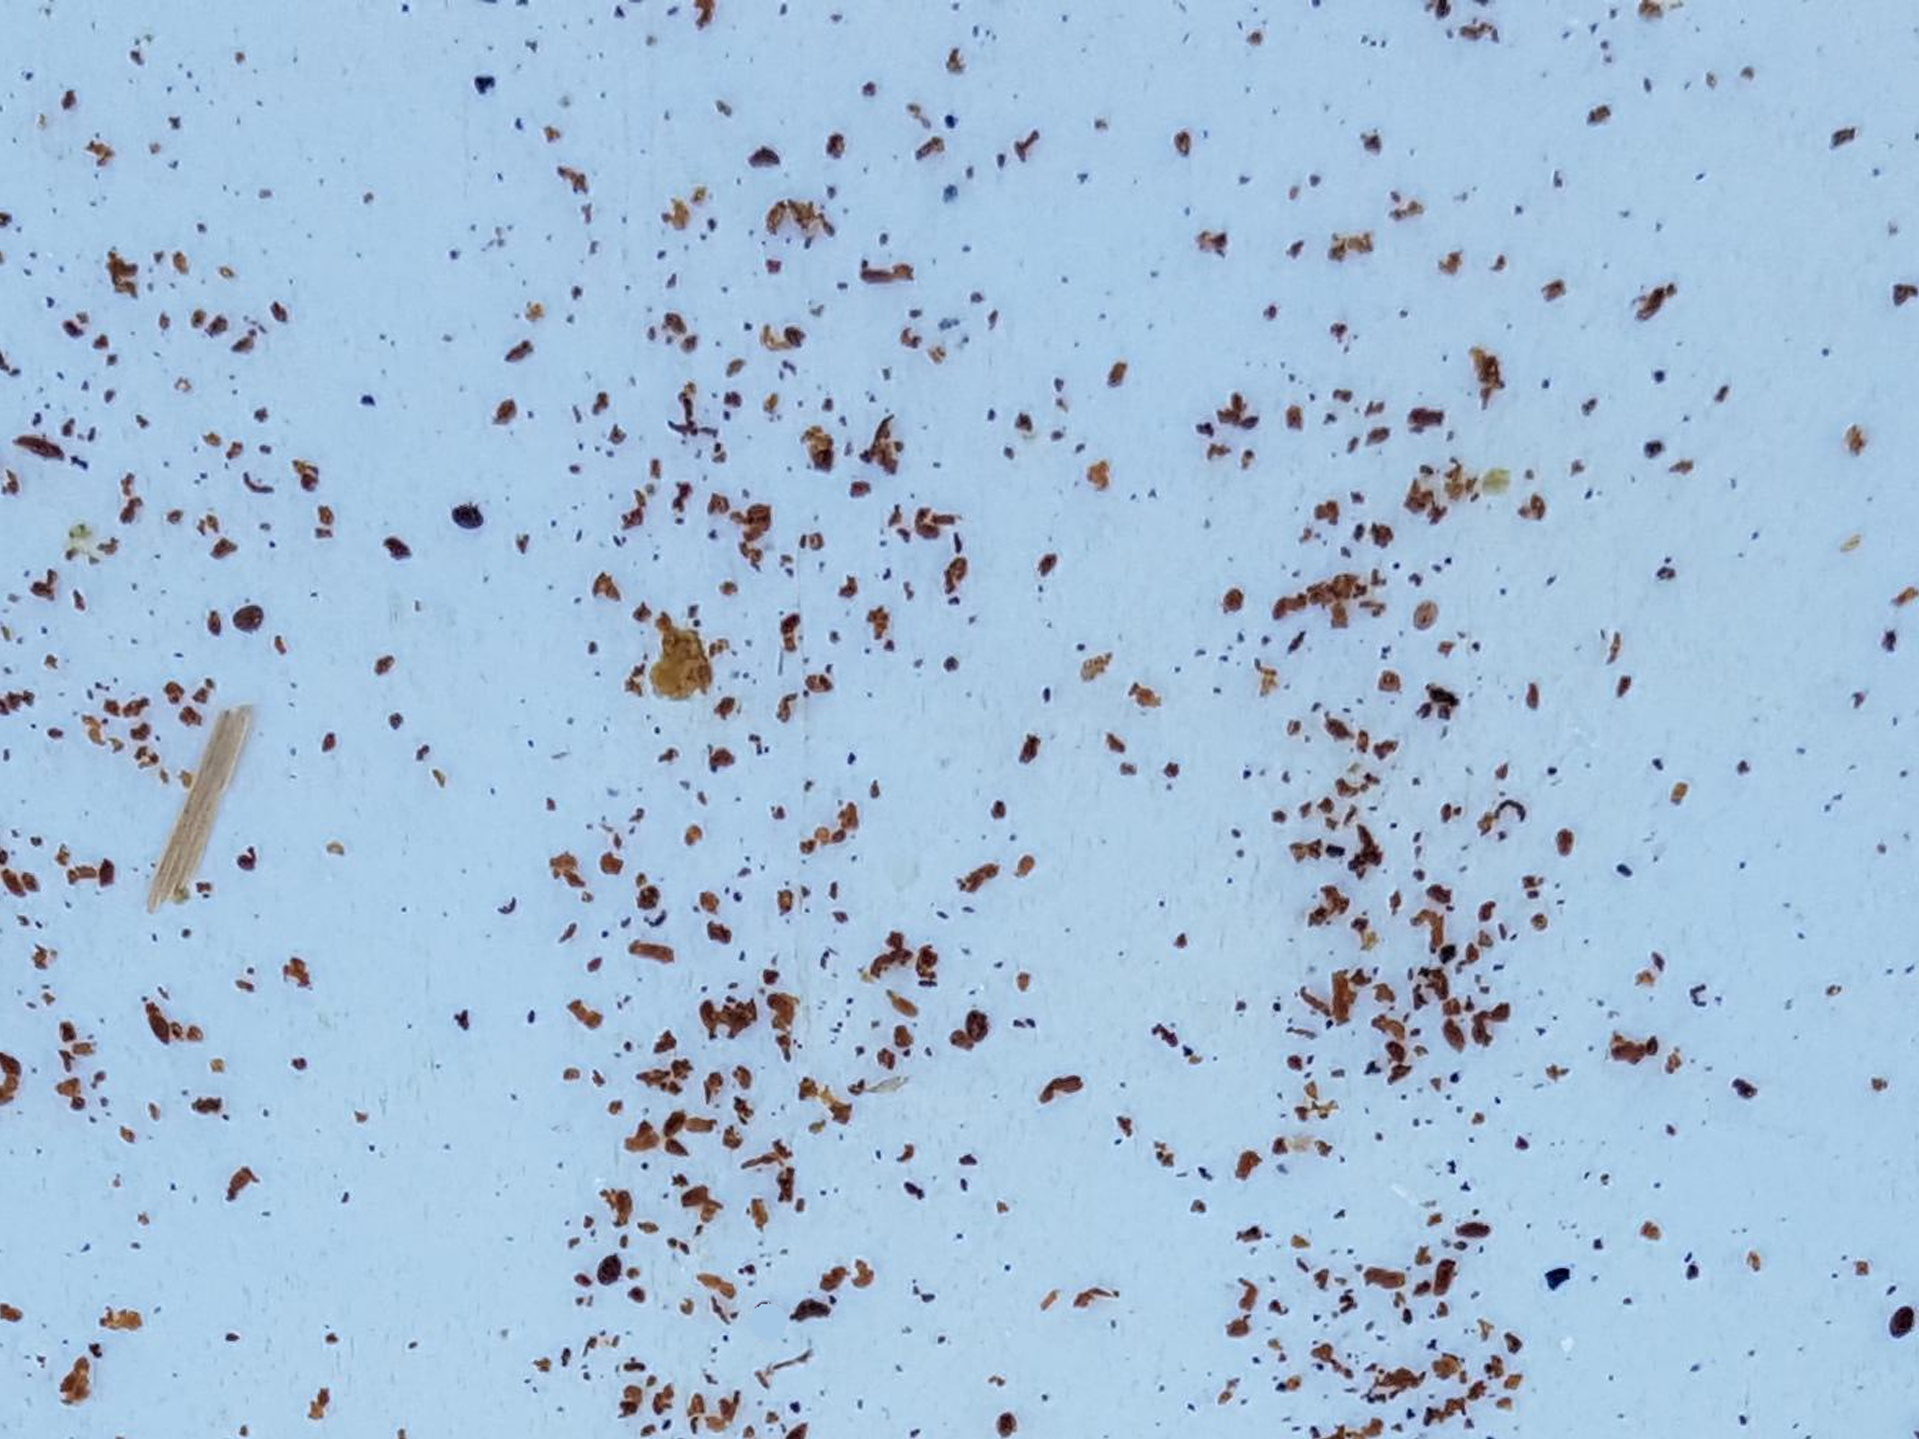Varroa: (1405, 603, 1435, 633), (447, 506, 477, 535), (592, 1258, 621, 1286), (964, 1007, 991, 1032), (234, 600, 260, 627)
